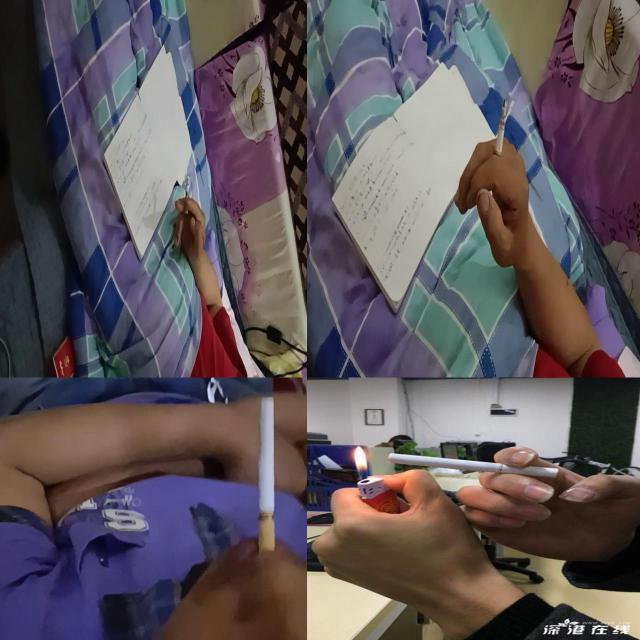smoking: (386, 452, 560, 480), (258, 397, 276, 556), (492, 96, 508, 170), (185, 178, 189, 214)
